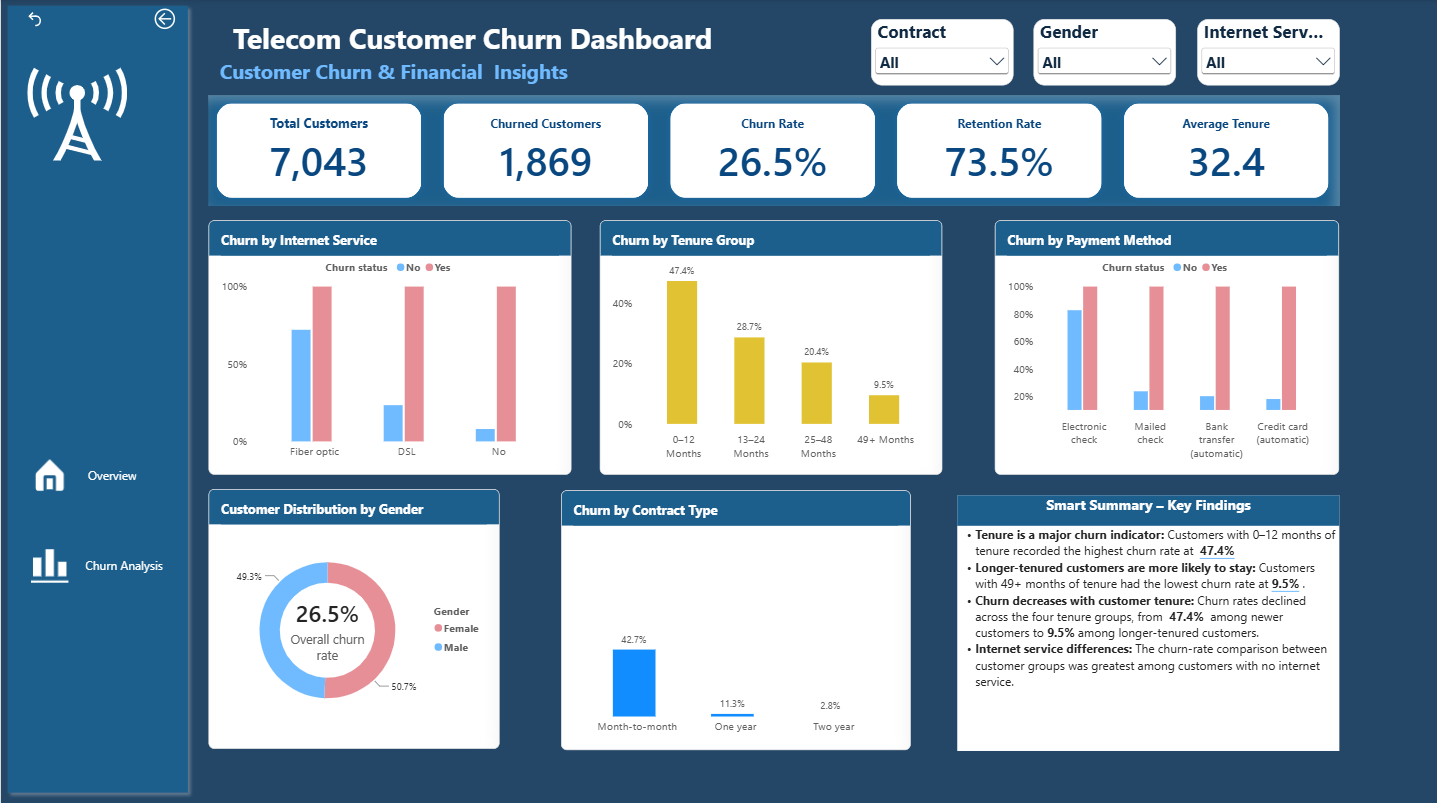

The dashboard page shown, as its layout file describes it:
{"tool":"powerbi","page":{"name":"Customer Churn & Financial Insights","canvas":[1920,1080],"ordinal":1},"visuals":[{"type":"shape","box":[0,0,258.8,1069.5],"z":0,"group":"g1"},{"type":"textbox","title":"Title","box":[276.9,27.1,705.8,57.9],"z":0,"group":"g3"},{"type":"cardVisual","title":"KPIs","fields":{"Data":["Table Measure.Total Customers","Table Measure.Churned Customers","Table Measure.Churn Rate","Table Measure.Retention Rate","Table Measure.Average Tenure"]},"box":[276.9,128.5,1511.1,148.4],"z":0},{"type":"actionButton","box":[39.8,573.7,187.2,124.2],"z":0,"group":"g2"},{"type":"group","id":"g1","title":"Group 2","box":[0,0,258.8,1069.5],"z":1000,"group":"g4"},{"type":"slicer","fields":{"Values":["customer_records.gender"]},"box":[1379.9,27.1,190,88.7],"z":1000},{"type":"textbox","title":"Subtitle","box":[284.4,79.3,481.4,54.3],"z":1000,"group":"g3"},{"type":"actionButton","box":[39.8,697.9,176.2,118.4],"z":1000,"group":"g2"},{"type":"actionButton","title":"Refresh filters","box":[0,0,90.5,54.3],"z":1500,"group":"g4"},{"type":"slicer","fields":{"Values":["customer_records.InternetService"]},"box":[1597.9,27.1,190,88.7],"z":2000},{"type":"image","title":"Page logo","box":[34.4,72.4,134,164.3],"z":2500,"group":"g1"},{"type":"clusteredColumnChart","title":"Churn by Internet Service ","fields":{"Category":["customer_records.InternetService"],"Series":["customer_records.Churn"],"Y":["Table Measure.Churn Rate"]},"box":[276.9,295,485,340.2],"z":3000},{"type":"group","id":"g2","title":"Group 1","box":[39.8,573.7,187.2,242.6],"z":3000,"group":"g1"},{"type":"slicer","fields":{"Values":["customer_records.Contract"]},"box":[1161.8,27.1,190,88.7],"z":4000},{"type":"clusteredColumnChart","title":"Churn by Payment Method","fields":{"Category":["customer_records.PaymentMethod"],"Series":["customer_records.Churn"],"Y":["Table Measure.Churn Rate"]},"box":[1328.3,295,459.7,340.2],"z":5000},{"type":"donutChart","title":"Customer Distribution by Gender","fields":{"Category":["customer_records.gender"],"Y":["Table Measure.Churn Rate"]},"box":[276.9,655.1,389.1,347.5],"z":6000},{"type":"clusteredColumnChart","title":"Churn by Contract Type","fields":{"Category":["customer_records.Contract"],"Y":["Table Measure.Churn Rate"]},"box":[748.8,655.7,466.9,347.5],"z":7000},{"type":"clusteredColumnChart","title":"Churn by Tenure Group","fields":{"Category":["customer_records.Tenure Group"],"Y":["Table Measure.Churn Rate"]},"box":[799.9,295,457.8,340.2],"z":8000},{"type":"group","id":"g3","title":"Page Title & subtitle","box":[276.9,27.1,705.8,106.5],"z":9000},{"type":"group","id":"g4","title":"Group 3","box":[0,0,258.8,1069.5],"z":10000,"group":"g5"},{"type":"textbox","title":"Smart Summary – Key Findings","box":[1276.8,662.2,510.7,341.9],"z":10000},{"type":"group","id":"g5","title":"Group 4","box":[0,0,268.3,1069.5],"z":11000},{"type":"actionButton","box":[168.3,7.2,100,40],"z":11000,"group":"g5"}]}

Visuals, with their boxes on the page's 1920x1080 design canvas (x1, y1, x2, y2). These are canvas units, not pixel positions in the 1437x803 screenshot, which may show the page scaled, cropped or inside an application window:
shape: 0, 0, 259, 1070
"Title" textbox: 277, 27, 983, 85
"KPIs" cardVisual: 277, 128, 1788, 277
actionButton: 40, 574, 227, 698
"Group 2" group: 0, 0, 259, 1070
slicer - customer_records.gender: 1380, 27, 1570, 116
"Subtitle" textbox: 284, 79, 766, 134
actionButton: 40, 698, 216, 816
"Refresh filters" actionButton: 0, 0, 90, 54
slicer - customer_records.InternetService: 1598, 27, 1788, 116
"Page logo" image: 34, 72, 168, 237
"Churn by Internet Service " clusteredColumnChart: 277, 295, 762, 635
"Group 1" group: 40, 574, 227, 816
slicer - customer_records.Contract: 1162, 27, 1352, 116
"Churn by Payment Method" clusteredColumnChart: 1328, 295, 1788, 635
"Customer Distribution by Gender" donutChart: 277, 655, 666, 1003
"Churn by Contract Type" clusteredColumnChart: 749, 656, 1216, 1003
"Churn by Tenure Group" clusteredColumnChart: 800, 295, 1258, 635
"Page Title & subtitle" group: 277, 27, 983, 134
"Group 3" group: 0, 0, 259, 1070
"Smart Summary – Key Findings" textbox: 1277, 662, 1788, 1004
"Group 4" group: 0, 0, 268, 1070
actionButton: 168, 7, 268, 47
